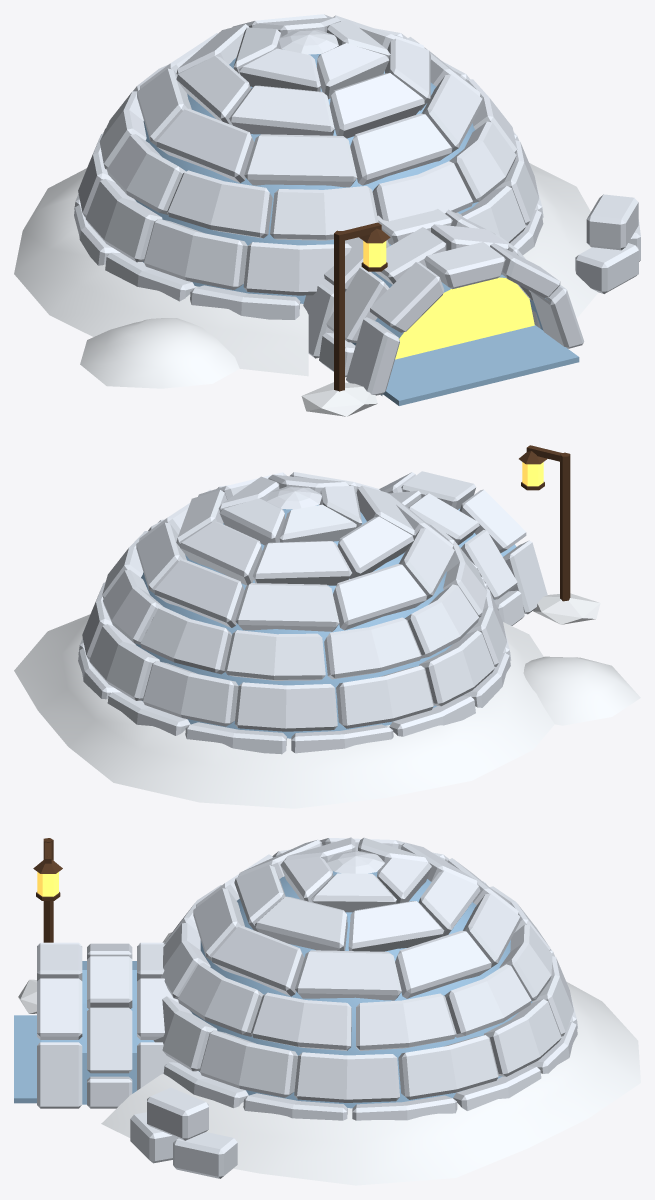
Rendered from igloo.glb.
3 views of the same model, one above another, from view 1: azimuth 30°, elevation 25°; view 2: azimuth 150°, elevation 25°; view 3: azimuth 270°, elevation 25° (orthographic). The views are drawn at different scales.
Visible parts, largest first — view 1: igloo; view 2: igloo; view 3: igloo.
Boxes of the visible parts, x1=… form: igloo: x1=14, y1=14, x2=640, y2=416; igloo: x1=14, y1=445, x2=640, y2=808; igloo: x1=14, y1=837, x2=640, y2=1185.
Bounding box in the file's own units: 4.45 × 1.66 × 4.59.
